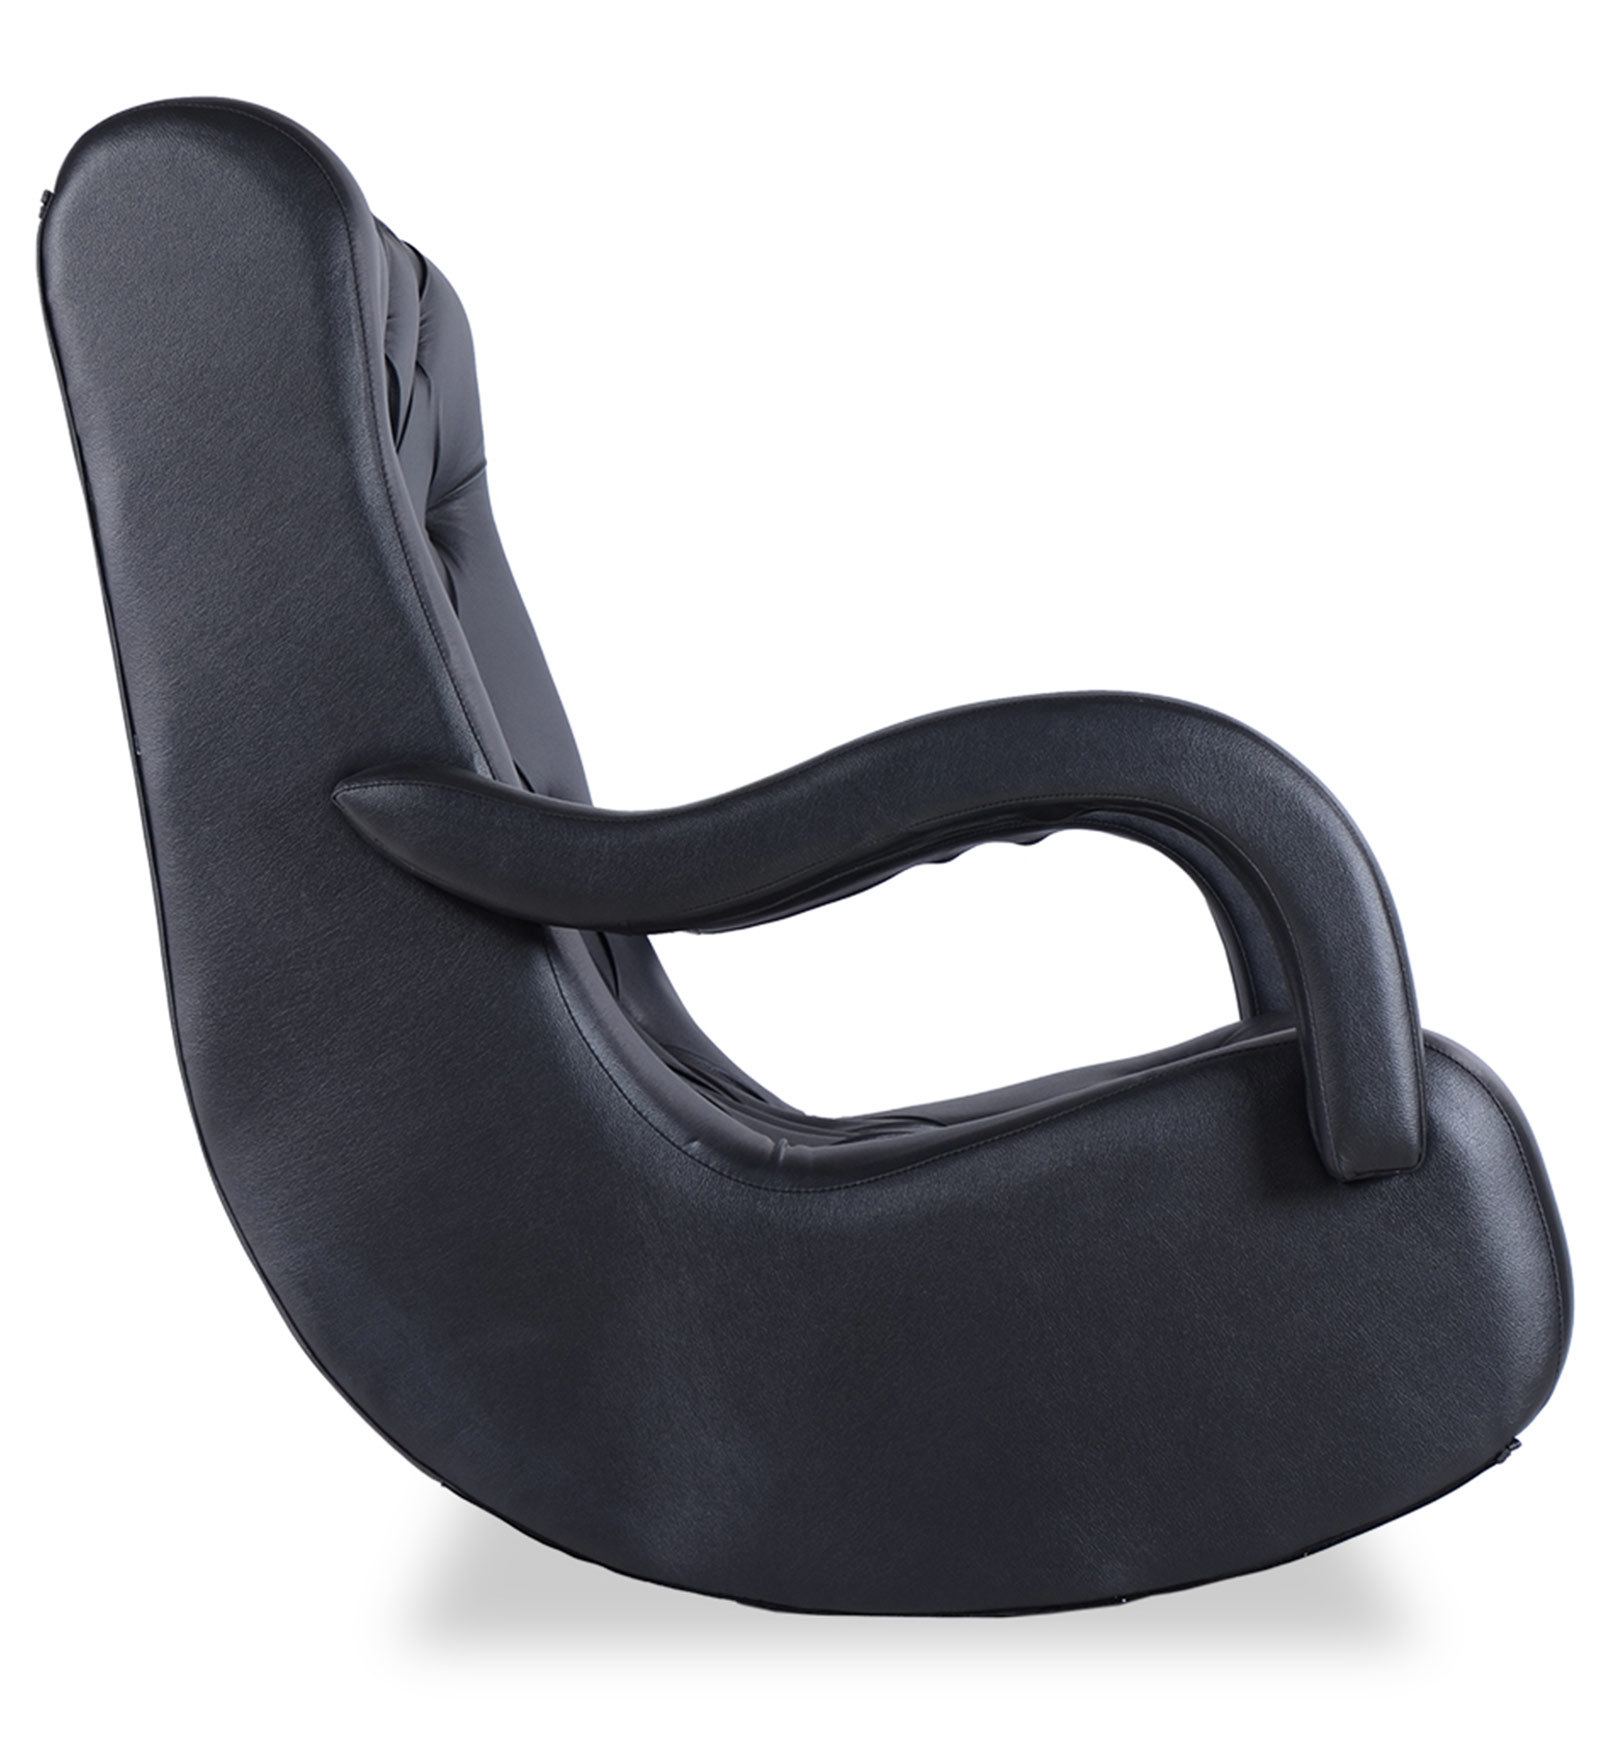Low Seat Rocking Chair with Arm Rest in Black Leatherette by Durian: (26, 89, 1572, 1625)
